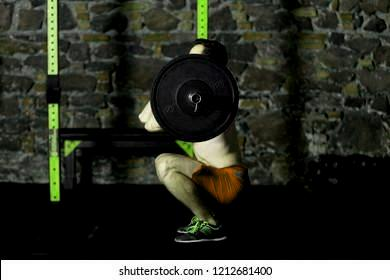Barbell: (191, 93, 202, 105)
